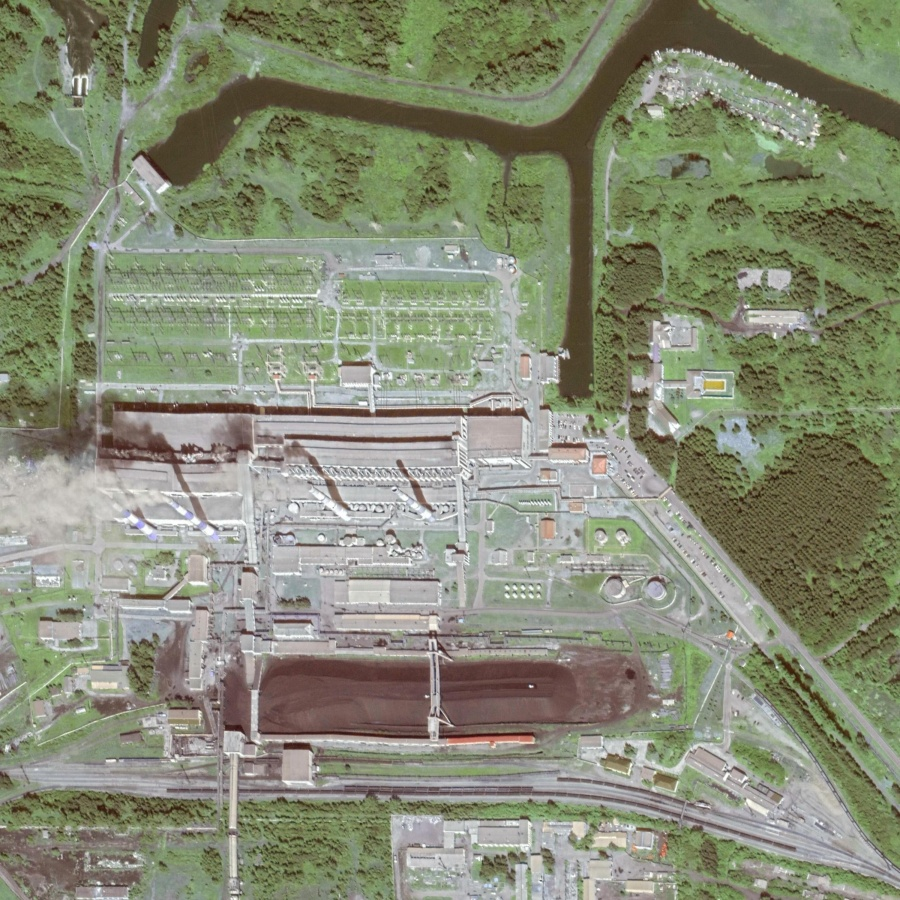PowerPlant: (71, 408, 670, 750)
